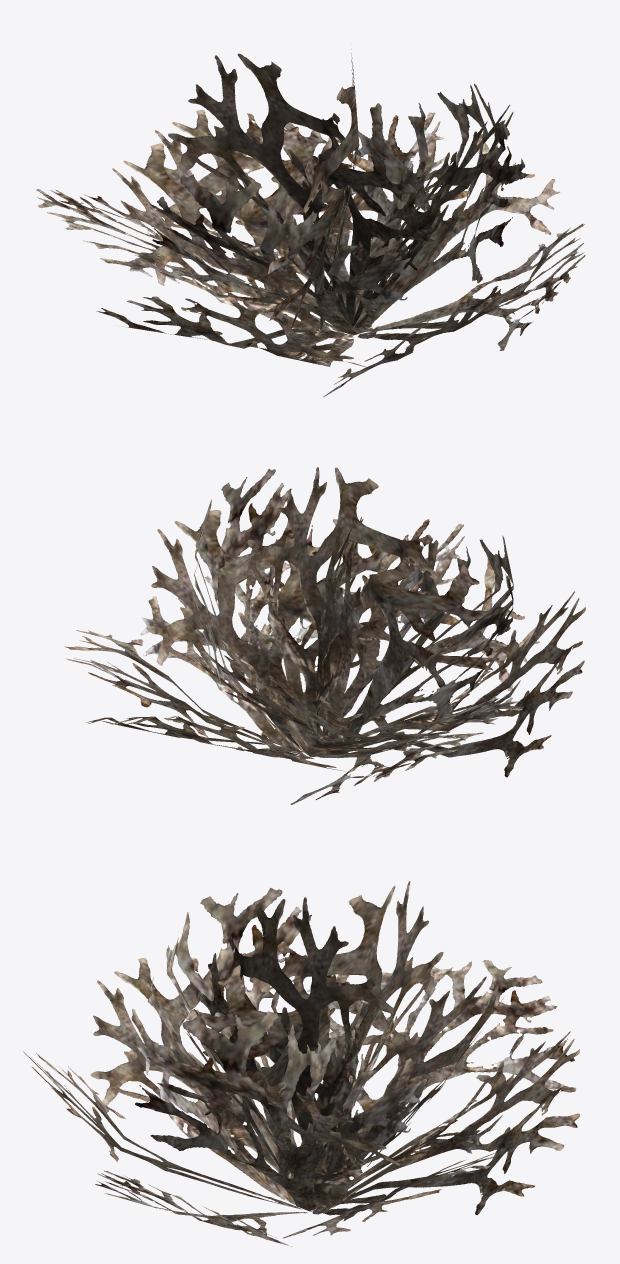
The model's file is algae_undergrowth.dae.
3 renders of one model, top to bottom at view 1: azimuth 30°, elevation 25°; view 2: azimuth 150°, elevation 25°; view 3: azimuth 270°, elevation 25°, orthographic. The views are drawn at different scales.
Visible parts, largest first — view 1: polySurface5; view 2: polySurface5; view 3: polySurface5.
Part boxes in pixels (<box>): polySurface5: <box>36,49,585,397</box>; polySurface5: <box>65,467,585,804</box>; polySurface5: <box>23,881,579,1246</box>.
Size of the model in its own units: 1.37 by 0.7927 by 1.23.
